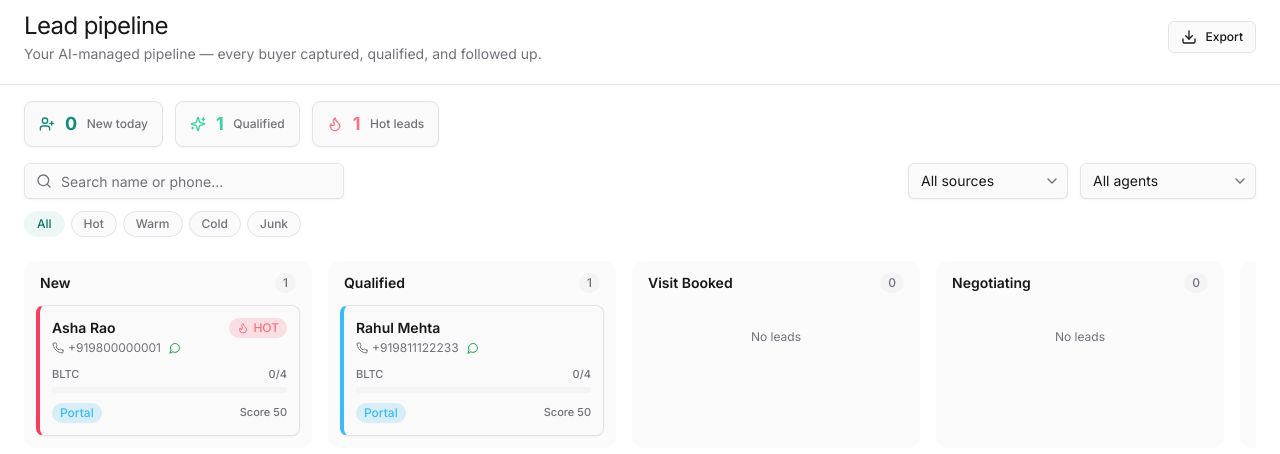
Test: LeadsPage filtering › filters by temperature pill
Click the button "Hot". click: (94, 224)
box: x1=71 y1=211 x2=117 y2=237
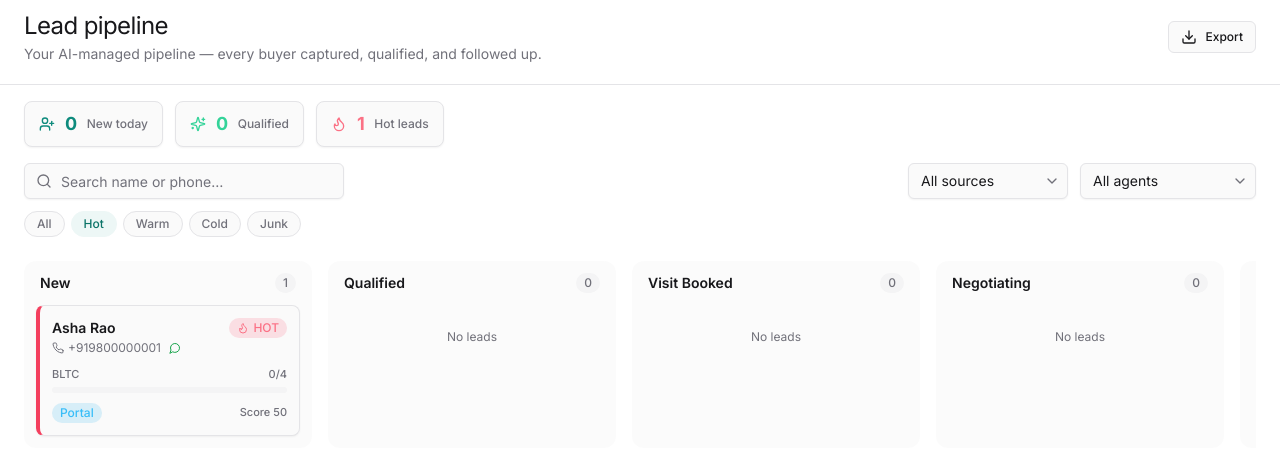
Check: the text "Asha Rao" is shown, box x1=52 y1=319 x2=116 y2=336
Check: the link "Rahul Mehta" is gone
